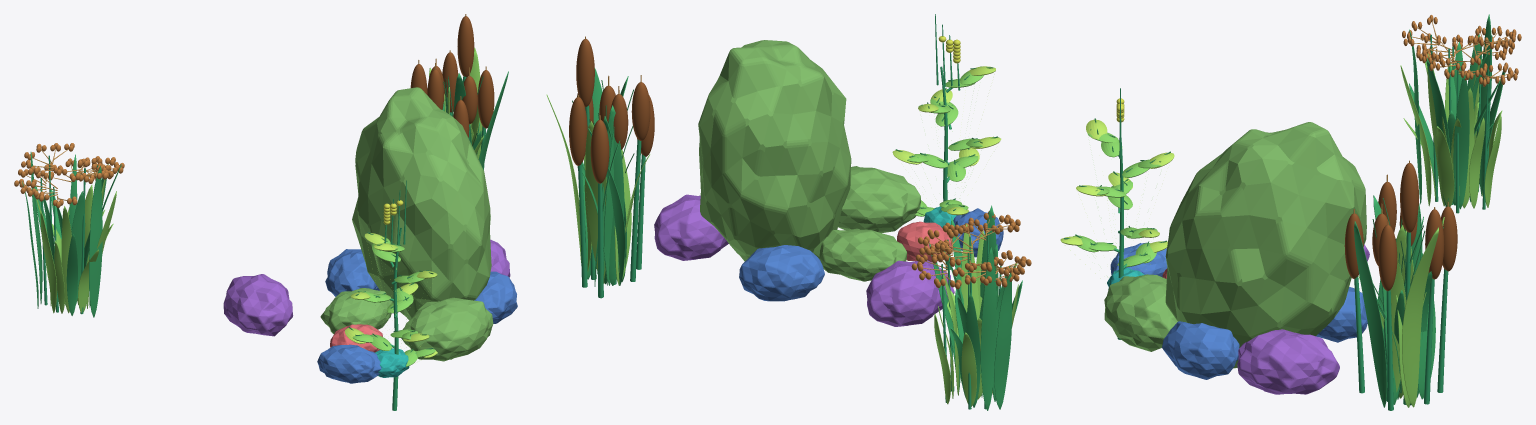
File: weedsandstones.glb
The picture shows the model from 3 angles, left to right: view 1: azimuth 30°, elevation 25°; view 2: azimuth 150°, elevation 25°; view 3: azimuth 270°, elevation 25°; orthographic projection. The views are drawn at different scales.
Visible parts, largest first — view 1: ColorStone_06.005, ColorStone_06.003, ColorStone_03, ColorStone_06, ColorStone_07, ColorStone_01, ReedLeaf_24, ColorStone_01.002, CattailHead_01, CattailHead_08, ColorStone_08, ReedLeaf_08 (+13 smaller); view 2: ColorStone_06.005, ColorStone_06.003, ColorStone_03, ColorStone_01, ColorStone_06, ColorStone_03.001, ReedLeaf_02, ReedLeaf_10, CattailLeaf_08, ColorStone_04, CattailLeaf_07, CattailHead_02 (+21 smaller); view 3: ColorStone_06.005, ColorStone_03.001, ColorStone_06.003, ColorStone_01.002, CattailLeaf_04, CattailLeaf_20, ReedLeaf_22, ColorStone_01, CattailHead_01, CattailHead_08, ReedLeaf_27, CattailHead_02 (+22 smaller).
Boxes of the visible parts, x1=… form: ColorStone_06.005: x1=352, y1=87, x2=491, y2=320; ColorStone_06.003: x1=401, y1=297, x2=493, y2=361; ColorStone_03: x1=223, y1=274, x2=293, y2=336; ColorStone_06: x1=320, y1=288, x2=392, y2=333; ColorStone_07: x1=317, y1=344, x2=381, y2=383; ColorStone_01: x1=325, y1=249, x2=379, y2=296; ReedLeaf_24: x1=89, y1=166, x2=102, y2=317; ColorStone_01.002: x1=474, y1=271, x2=517, y2=323; CattailHead_01: x1=457, y1=16, x2=474, y2=77; CattailHead_08: x1=477, y1=70, x2=494, y2=128; ColorStone_08: x1=374, y1=348, x2=409, y2=377; ReedLeaf_08: x1=66, y1=233, x2=77, y2=315; ColorStone_06.005: x1=698, y1=40, x2=851, y2=261; ColorStone_06.003: x1=838, y1=166, x2=920, y2=233; ColorStone_03: x1=866, y1=260, x2=954, y2=326; ColorStone_01: x1=739, y1=245, x2=824, y2=301; ColorStone_06: x1=813, y1=228, x2=907, y2=281; ColorStone_03.001: x1=654, y1=194, x2=728, y2=260; ReedLeaf_02: x1=980, y1=247, x2=996, y2=410; ReedLeaf_10: x1=994, y1=272, x2=1011, y2=409; CattailLeaf_08: x1=604, y1=105, x2=624, y2=285; ColorStone_04: x1=897, y1=221, x2=953, y2=262; CattailLeaf_07: x1=585, y1=121, x2=606, y2=283; CattailHead_02: x1=569, y1=97, x2=587, y2=165; ColorStone_06.005: x1=1165, y1=122, x2=1366, y2=368; ColorStone_03.001: x1=1237, y1=329, x2=1339, y2=394; ColorStone_06.003: x1=1104, y1=274, x2=1177, y2=351; ColorStone_01.002: x1=1162, y1=321, x2=1239, y2=379; CattailLeaf_04: x1=1402, y1=227, x2=1438, y2=407; CattailLeaf_20: x1=1354, y1=221, x2=1387, y2=407; ReedLeaf_22: x1=1453, y1=75, x2=1469, y2=209; ColorStone_01: x1=1316, y1=287, x2=1367, y2=342; CattailHead_01: x1=1400, y1=163, x2=1418, y2=232; CattailHead_08: x1=1378, y1=225, x2=1397, y2=291; ReedLeaf_27: x1=1436, y1=126, x2=1454, y2=206; CattailHead_02: x1=1425, y1=209, x2=1444, y2=279.
Bounding box in the file's own units: 8.17 × 4.51 × 6.54.
